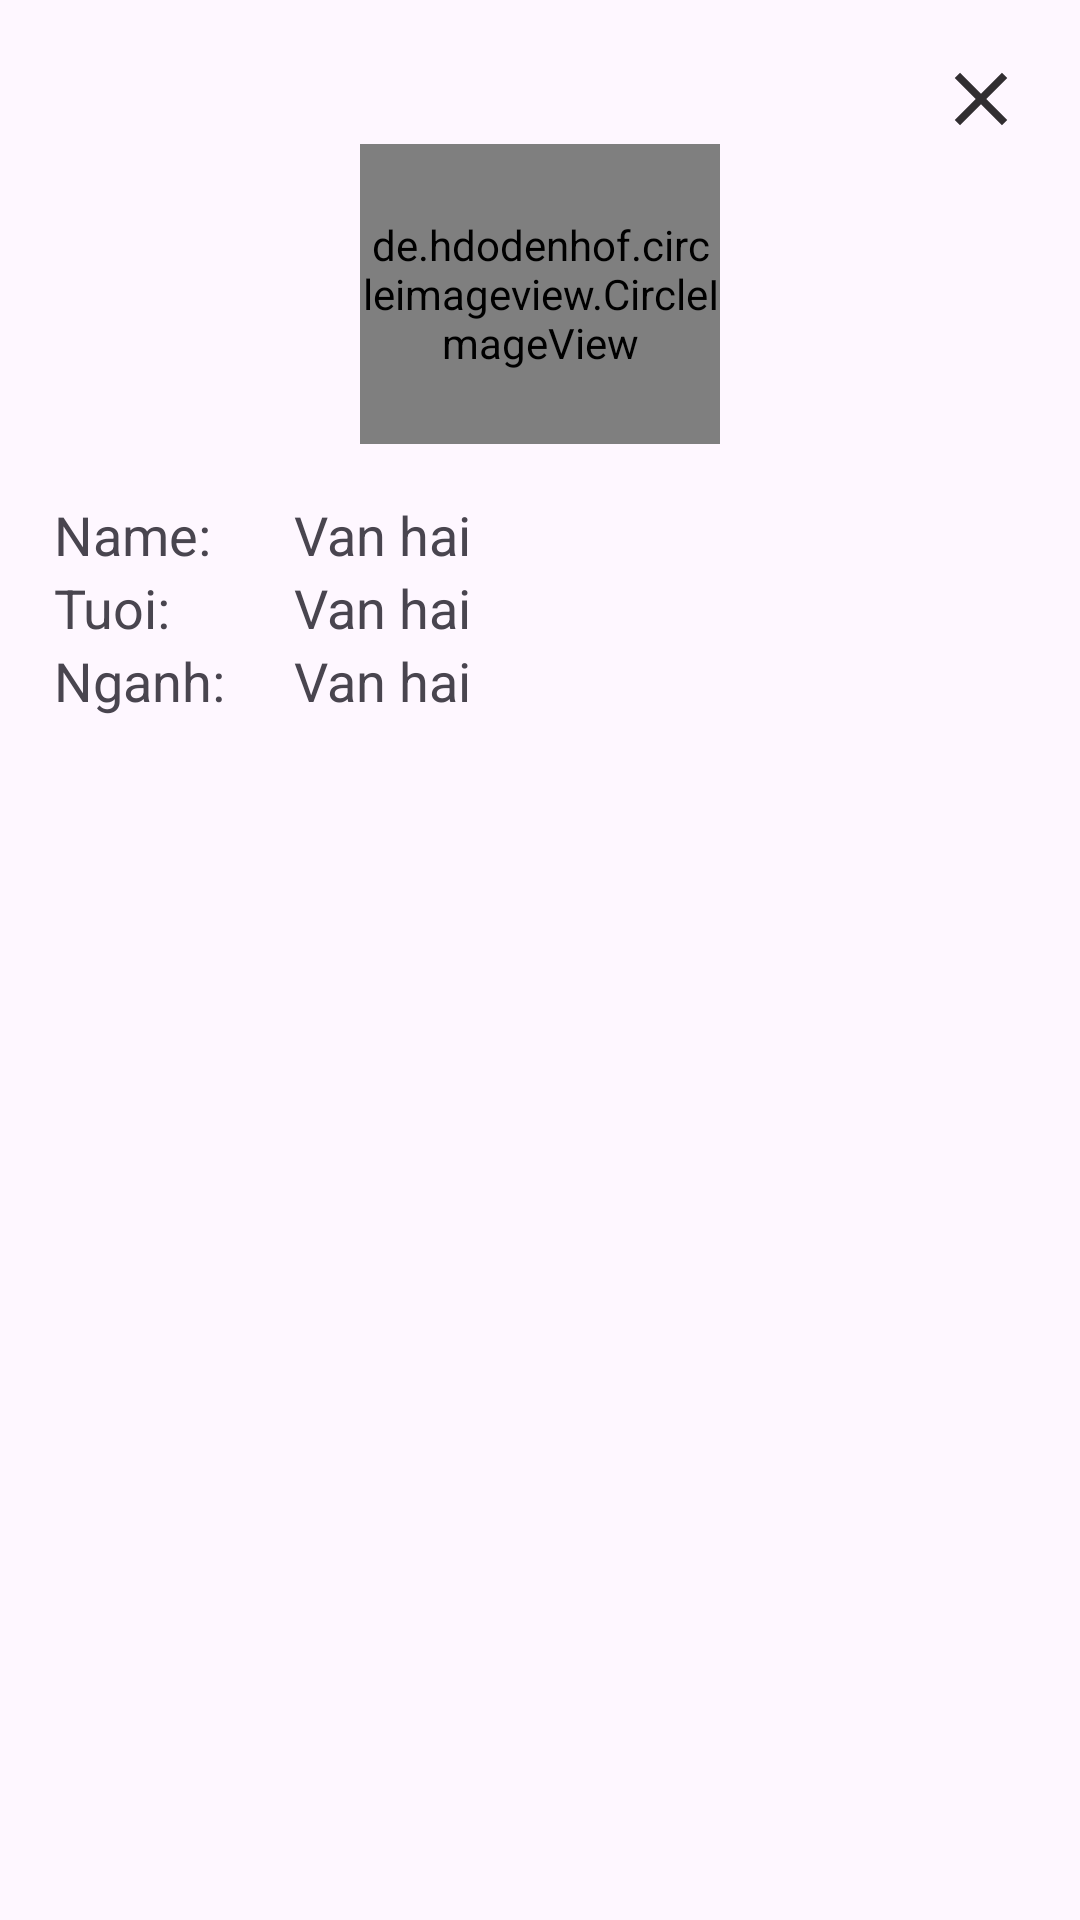

Icons on this 1080 x 1920 Android screen, each with its box as (x1, y1, x2, y2):
close: (955, 73, 1007, 125)
